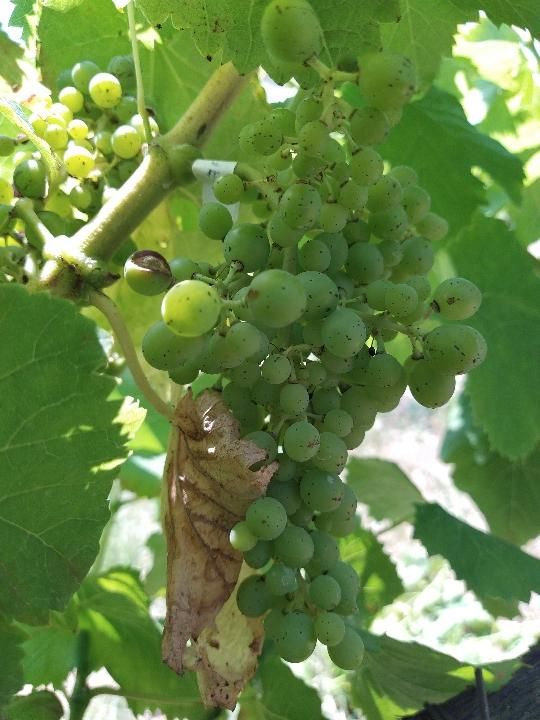grape: (119, 3, 490, 675)
